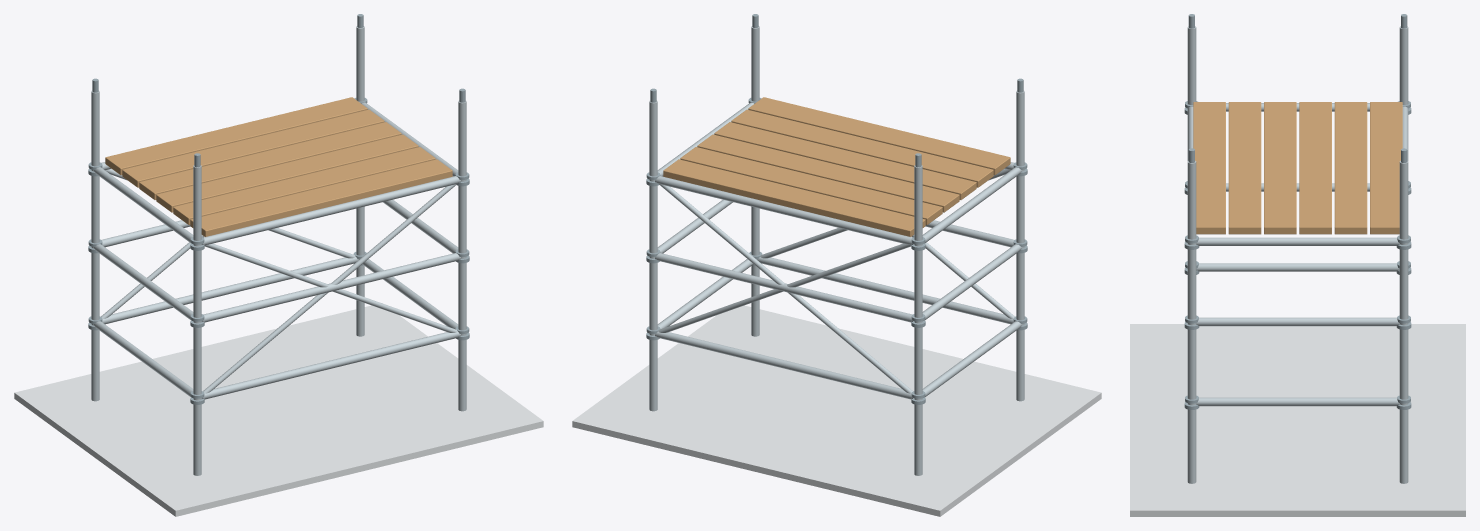
File: Cuplock-one-bay-1800x1200x2000.glb
3 renders of one model, left to right at view 1: azimuth 30°, elevation 25°; view 2: azimuth 150°, elevation 25°; view 3: azimuth 270°, elevation 25°, orthographic. The views are drawn at different scales.
Visible parts, largest first — view 1: Ground reference, Illustrative deck board 1, Illustrative deck board 6, Illustrative deck board 5, Illustrative deck board 2, Illustrative deck board 3, Illustrative deck board 4, Standard 1: Ø48.3 x 3.2, L2000, Standard 3: Ø48.3 x 3.2, L2000, Standard 2: Ø48.3 x 3.2, L2000, Longitudinal ledger 1800 @ 1500, Longitudinal ledger 1800 @ 500 (+13 smaller); view 2: Ground reference, Illustrative deck board 6, Illustrative deck board 1, Illustrative deck board 2, Illustrative deck board 5, Illustrative deck board 3, Illustrative deck board 4, Standard 2: Ø48.3 x 3.2, L2000, Standard 4: Ø48.3 x 3.2, L2000, Standard 1: Ø48.3 x 3.2, L2000, Longitudinal ledger 1800 @ 1500.001, Longitudinal ledger 1800 @ 500.001 (+13 smaller); view 3: Ground reference, Illustrative deck board 2, Illustrative deck board 5, Illustrative deck board 3, Illustrative deck board 4, Illustrative deck board 1, Illustrative deck board 6, Standard 3: Ø48.3 x 3.2, L2000, Standard 4: Ø48.3 x 3.2, L2000, Transverse ledger 1200 @ 500.001, Transverse ledger 1200 @ 1000.001, Transverse ledger 1200 @ 500 (+3 smaller).
Boxes of the visible parts, x1,y1,x2,y2 form: Ground reference: [14, 303, 543, 516]; Illustrative deck board 1: [190, 159, 452, 236]; Illustrative deck board 6: [105, 97, 367, 175]; Illustrative deck board 5: [122, 109, 384, 187]; Illustrative deck board 2: [173, 147, 435, 224]; Illustrative deck board 3: [156, 134, 418, 212]; Illustrative deck board 4: [139, 122, 401, 199]; Standard 1: Ø48.3 x 3.2, L2000: [193, 165, 201, 475]; Standard 3: Ø48.3 x 3.2, L2000: [458, 100, 466, 411]; Standard 2: Ø48.3 x 3.2, L2000: [91, 90, 99, 401]; Longitudinal ledger 1800 @ 1500: [202, 176, 460, 245]; Longitudinal ledger 1800 @ 500: [202, 331, 460, 399]; Ground reference: [572, 303, 1101, 516]; Illustrative deck board 6: [663, 159, 925, 236]; Illustrative deck board 1: [748, 97, 1010, 175]; Illustrative deck board 2: [731, 109, 993, 187]; Illustrative deck board 5: [680, 147, 942, 224]; Illustrative deck board 3: [714, 122, 976, 199]; Illustrative deck board 4: [697, 134, 959, 212]; Standard 2: Ø48.3 x 3.2, L2000: [914, 165, 922, 475]; Standard 4: Ø48.3 x 3.2, L2000: [649, 100, 657, 411]; Standard 1: Ø48.3 x 3.2, L2000: [1016, 90, 1024, 401]; Longitudinal ledger 1800 @ 1500.001: [655, 176, 913, 245]; Longitudinal ledger 1800 @ 500.001: [655, 331, 913, 399]; Ground reference: [1130, 324, 1465, 516]; Illustrative deck board 2: [1228, 102, 1261, 234]; Illustrative deck board 5: [1334, 102, 1367, 234]; Illustrative deck board 3: [1264, 102, 1296, 234]; Illustrative deck board 4: [1299, 102, 1331, 234]; Illustrative deck board 1: [1193, 102, 1225, 234]; Illustrative deck board 6: [1370, 102, 1402, 234]; Standard 3: Ø48.3 x 3.2, L2000: [1187, 160, 1196, 483]; Standard 4: Ø48.3 x 3.2, L2000: [1399, 160, 1408, 483]; Transverse ledger 1200 @ 500.001: [1196, 397, 1399, 406]; Transverse ledger 1200 @ 1000.001: [1196, 317, 1399, 326]; Transverse ledger 1200 @ 500: [1196, 263, 1399, 271].
Bounding box in the file's own units: 2500 × 2130 × 1900.
